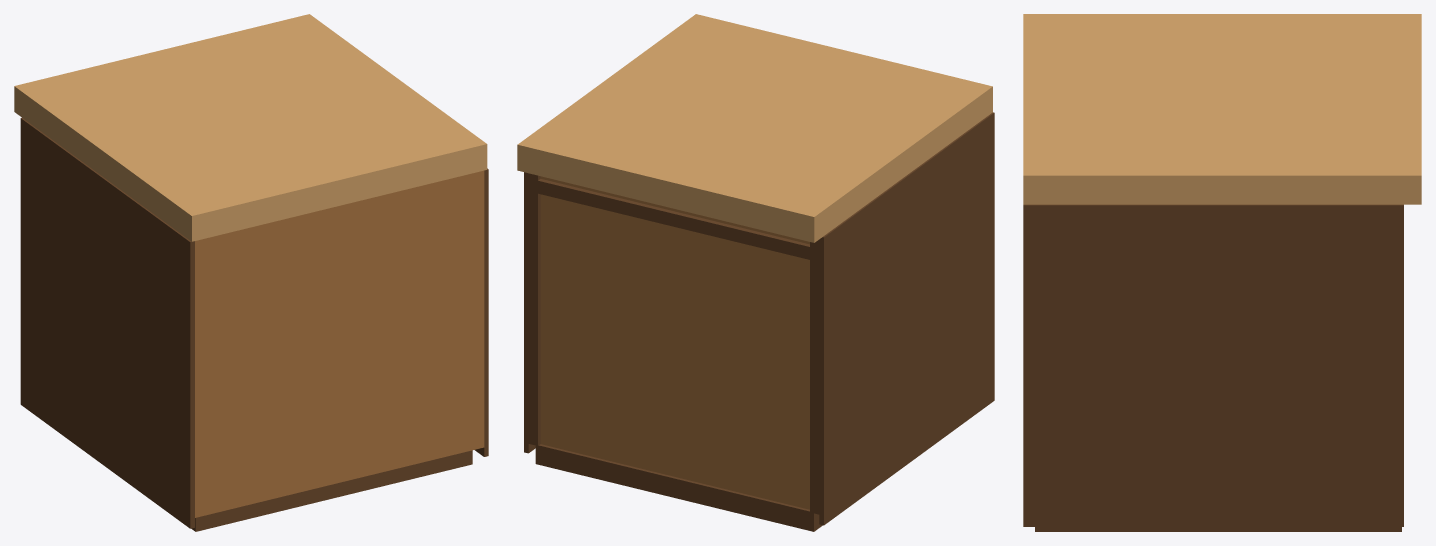
Rendered from counter_end.glb.
3 renders of one model, left to right at view 1: azimuth 30°, elevation 25°; view 2: azimuth 150°, elevation 25°; view 3: azimuth 270°, elevation 25°, orthographic. The views are drawn at different scales.
Visible parts, largest first — view 1: counter_end_body; view 2: counter_end_body; view 3: counter_end_body.
Part boxes in pixels (<box>): counter_end_body: <box>14,14,488,531</box>; counter_end_body: <box>517,14,994,531</box>; counter_end_body: <box>1023,14,1421,531</box>.
Bounding box in the file's own units: 0.97 × 1 × 1.
